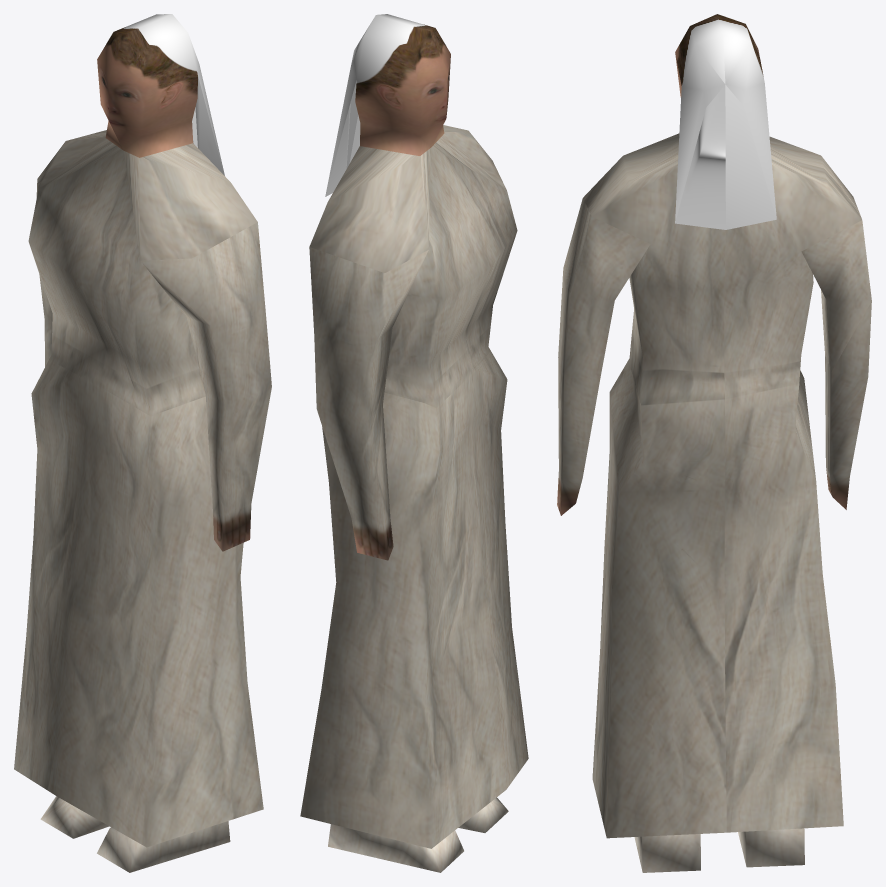
The model's file is lady1_27.fbx.
The picture shows the model from 3 angles, left to right: view 1: azimuth 30°, elevation 25°; view 2: azimuth 150°, elevation 25°; view 3: azimuth 270°, elevation 25°; orthographic projection. The views are drawn at different scales.
Visible parts, largest first — view 1: lady1_27; view 2: lady1_27; view 3: lady1_27.
Boxes of the visible parts, left/top/right/bottom form: lady1_27: left=14, top=14, right=271, bottom=872; lady1_27: left=300, top=14, right=528, bottom=872; lady1_27: left=557, top=14, right=871, bottom=872.
Bounding box in the file's own units: 7.78 × 36.09 × 12.37.
